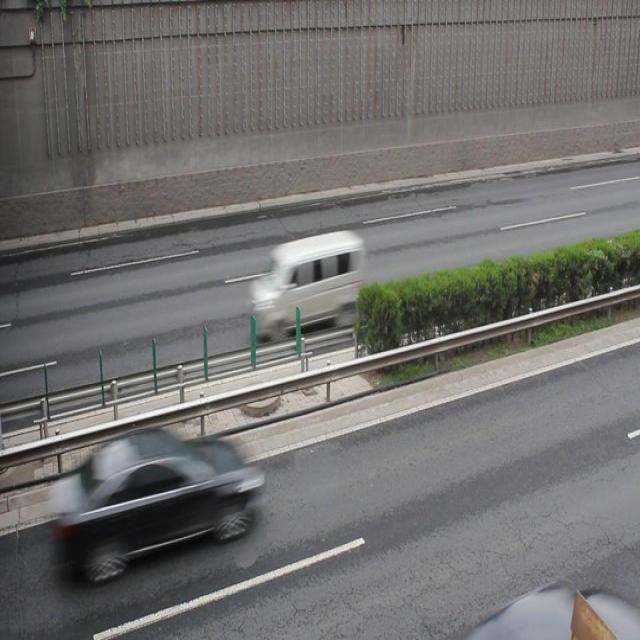car: (74, 426, 256, 580)
truck: (248, 228, 362, 338)
